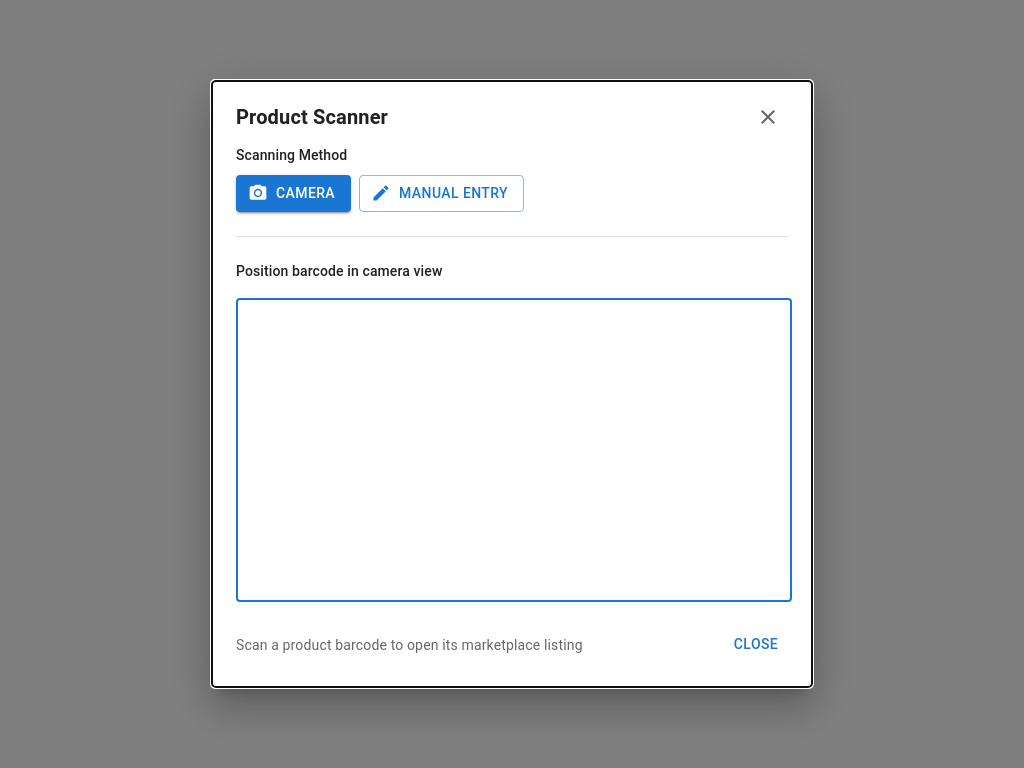
Test: ProductIdentificationScanner › Mode Switching › should switch back to camera mode
This screenshot has width=1024, height=768.
// Switch to manual mode first
Click the button "Manual Entry": (442, 193) [359,175,524,212]
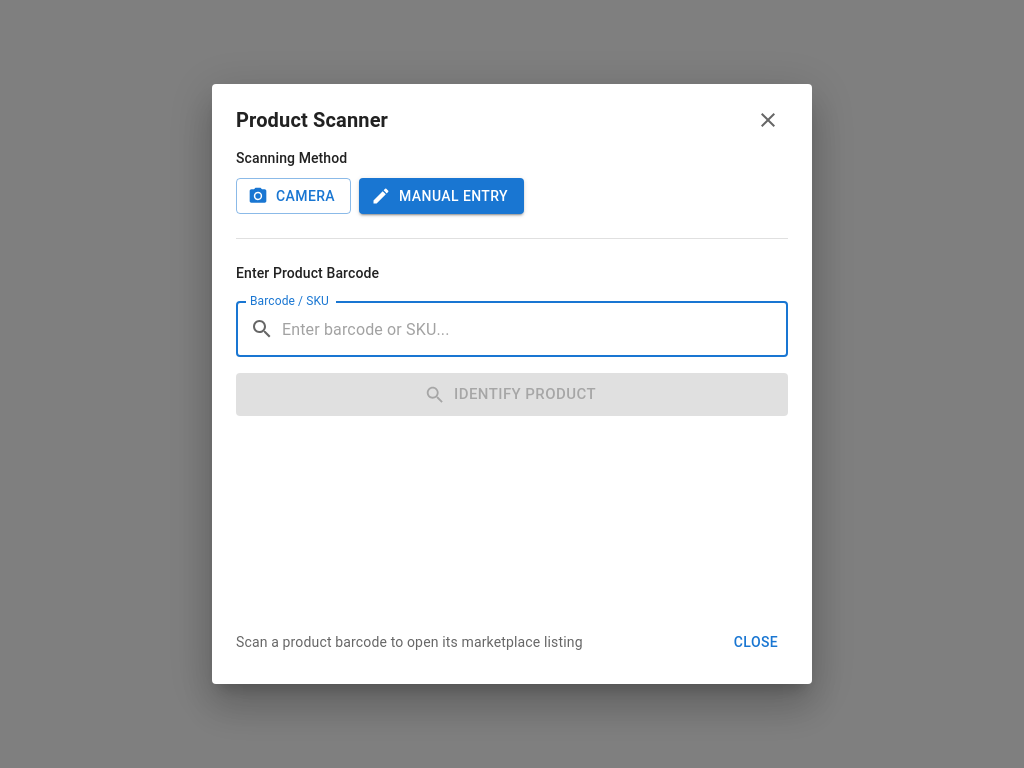
Expected: the heading "Enter Product Barcode" is shown, [236,266,379,282]
// Switch back to camera mode
Click the button "Camera": (294, 196) [236,178,351,214]
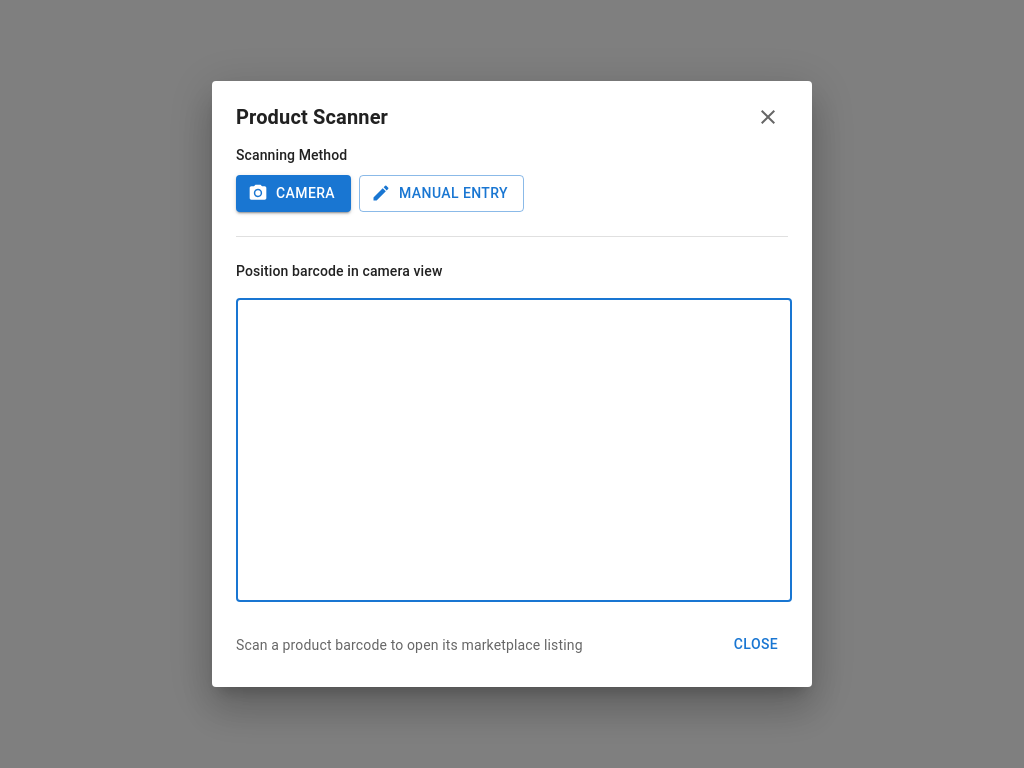
Expected: the heading "Position barcode in camera view" is shown, [236,262,442,278]
